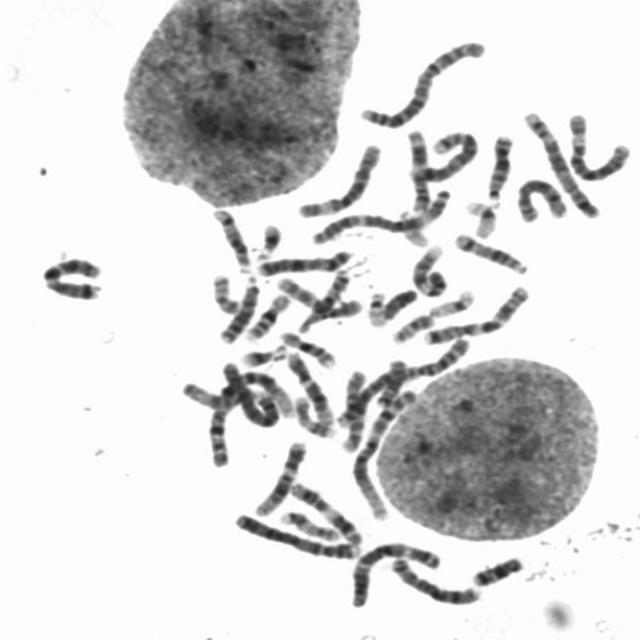A1: (344, 380, 419, 523), (200, 362, 294, 469)
A2: (328, 330, 472, 434), (353, 32, 490, 130)
A3: (304, 184, 454, 245), (341, 534, 444, 609)
B4: (226, 506, 364, 562), (215, 355, 283, 429)
B5: (517, 102, 603, 220), (404, 123, 481, 183)
C10: (270, 270, 364, 318), (335, 363, 371, 454)
C11: (282, 475, 366, 546), (400, 122, 433, 214)
C12: (279, 343, 337, 432), (249, 434, 309, 518)
C6: (290, 135, 384, 220), (560, 106, 634, 182)
C7: (416, 278, 532, 344), (34, 249, 106, 302)
C8: (383, 551, 485, 607), (510, 171, 571, 224)
C9: (405, 237, 450, 298)
D13: (212, 269, 261, 344), (480, 127, 516, 204)
D14: (447, 225, 530, 276), (205, 201, 252, 273)
D15: (298, 264, 352, 336), (176, 377, 261, 412)
E16: (239, 286, 295, 342), (272, 325, 338, 369)
E17: (274, 503, 344, 542), (287, 389, 338, 439)
E18: (465, 548, 526, 588), (372, 353, 408, 407)
F19: (422, 282, 478, 319), (458, 194, 500, 239)
F20: (386, 306, 436, 345), (204, 267, 242, 316)
G21: (233, 338, 289, 368), (249, 215, 285, 261)
G22: (392, 203, 431, 247), (360, 284, 390, 328)
X: (251, 242, 356, 278)
Y: (368, 281, 420, 326)
